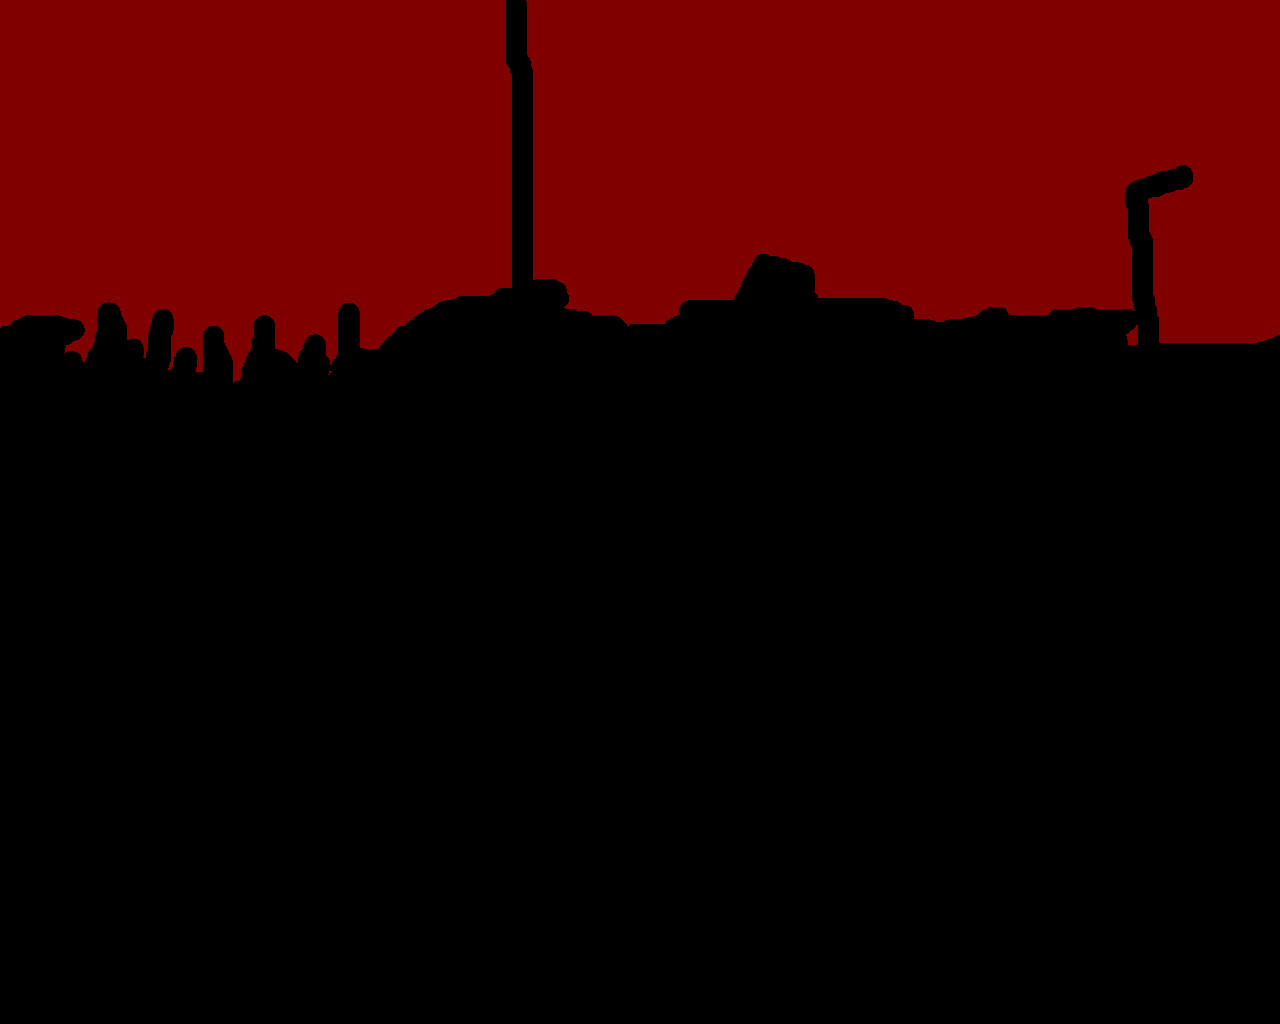Sky: (1, 1, 1279, 383)
